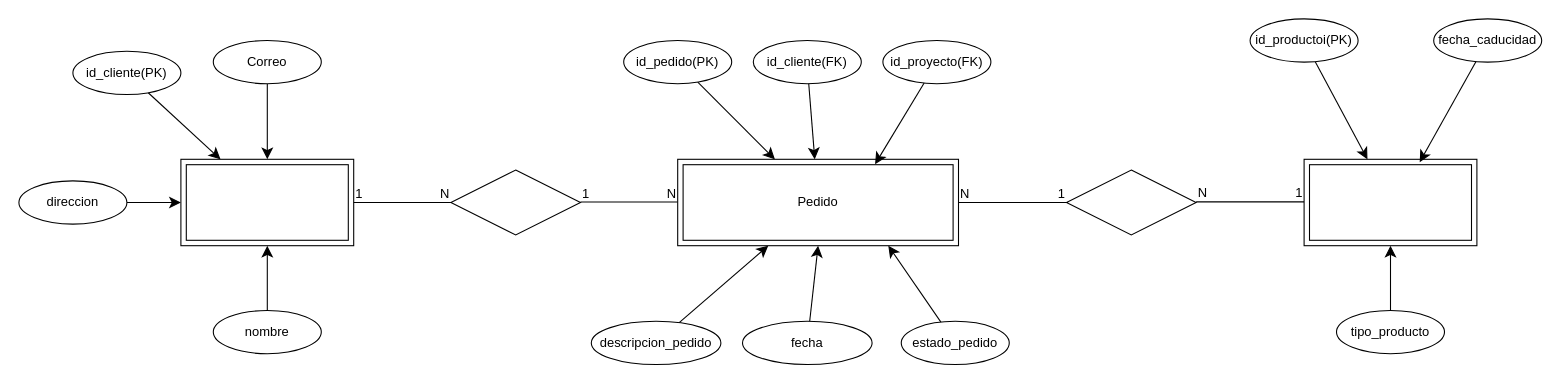
Some shapes in this 1561 by 383 pixel diagram are drawn without their labels. The box of each missing label's shape, as (x1, y1, x2, y2) in pixels:
Cliente: (180, 158, 354, 246)
Entrega: (450, 169, 580, 235)
incluye: (1065, 169, 1196, 235)
producto: (1303, 158, 1477, 246)
